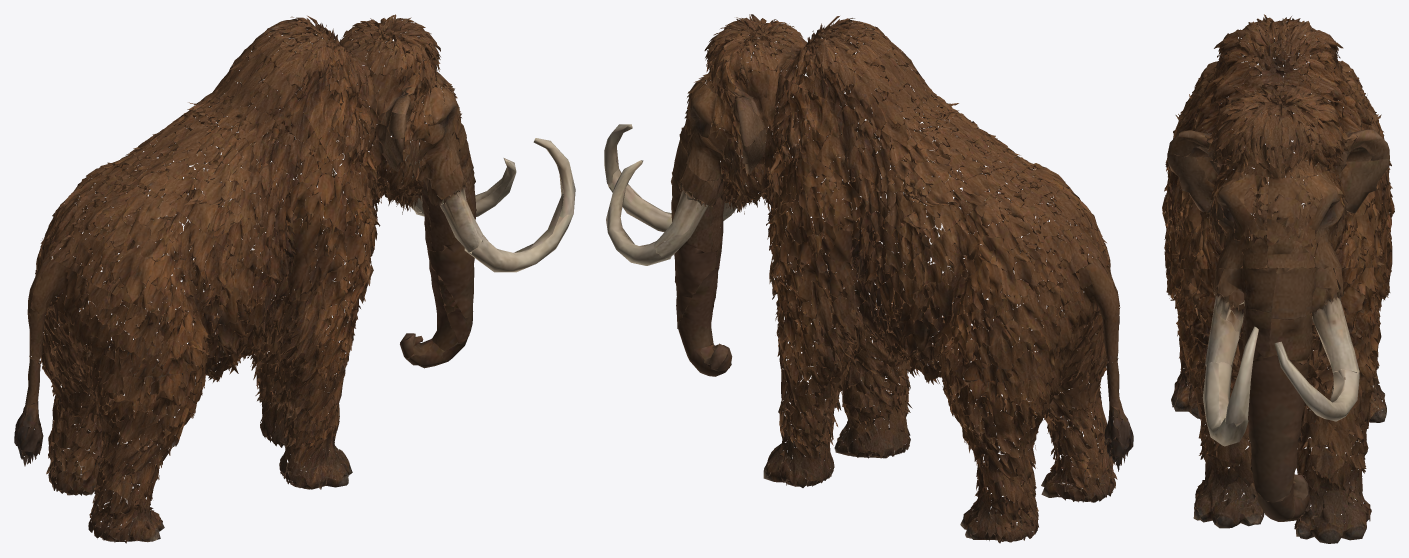
Rendered from mammoth.glb.
3 renders of one model, left to right at view 1: azimuth 30°, elevation 25°; view 2: azimuth 150°, elevation 25°; view 3: azimuth 270°, elevation 25°, orthographic. The views are drawn at different scales.
Parts seen in each view (by area): view 1: Mesh_0; view 2: Mesh_0; view 3: Mesh_0.
Boxes of the visible parts, x1=… form: Mesh_0: x1=14, y1=14, x2=575, y2=543; Mesh_0: x1=604, y1=14, x2=1133, y2=543; Mesh_0: x1=1162, y1=14, x2=1394, y2=543.
Size of the model in its own units: 4.14 by 3.2 by 1.36.
Materials: 1 (1 with a texture image).
